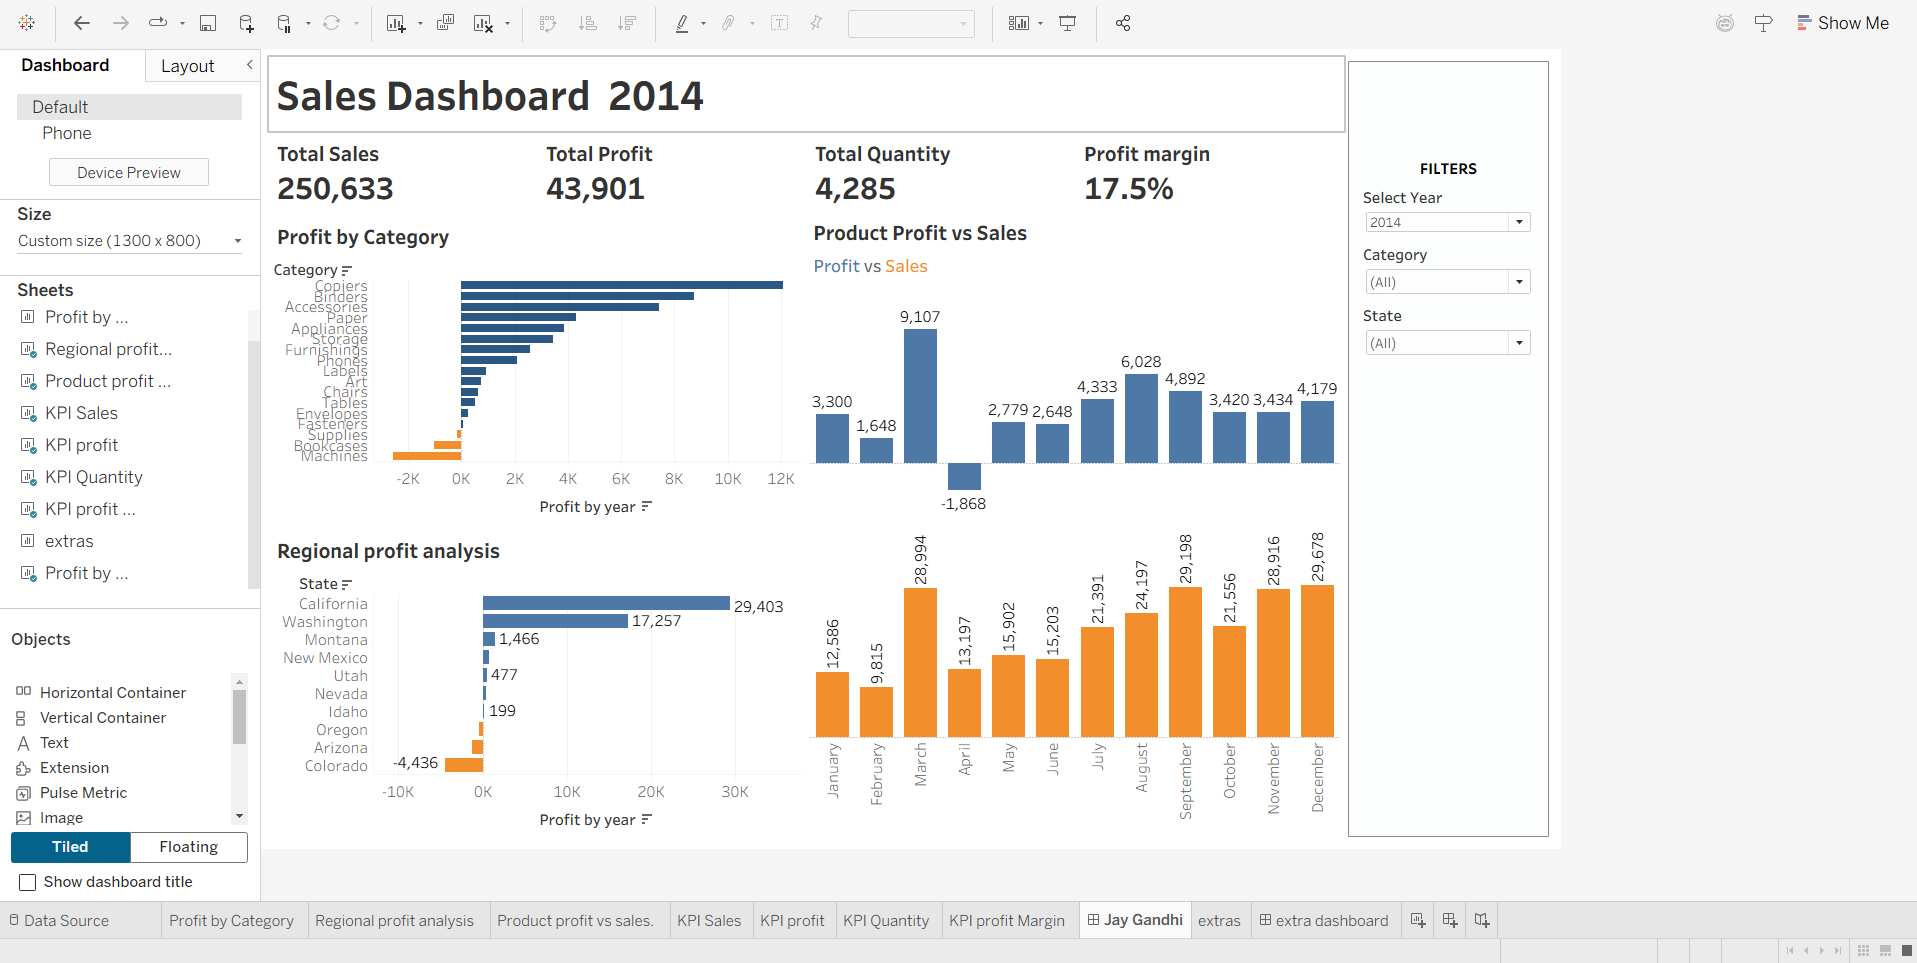

What the dashboard file says about the page in this screenshot:
{"tool":"tableau","page":{"name":"Jay Gandhi","canvas":[1300,800],"ordinal":0},"visuals":[{"type":"text","box":[8,8,1075,74]},{"type":"blank","box":[1098,23,179,82]},{"type":"worksheet","title":"KPI Sales","mark":"Automatic","box":[8,82,269,83]},{"type":"worksheet","title":"KPI profit","mark":"Automatic","box":[277,82,269,83]},{"type":"worksheet","title":"KPI Quantity","mark":"Automatic","box":[546,82,269,83]},{"type":"worksheet","title":"KPI profit Margin","mark":"Automatic","box":[815,82,268,83]},{"type":"text","box":[1098,105,179,29]},{"type":"parameter","param":"[Parameters].[Parameter 2]","box":[1098,134,179,57]},{"type":"worksheet","title":"Profit by Category (2)","mark":"Automatic","rows":["Category"],"cols":["Calculation_1236801077627543553"],"box":[8,165,537,314]},{"type":"text","box":[545.5,165,537.5,35]},{"type":"filter","title":"Profit by Category (2)","param":"[federated.0yc3zuj0cu6m1213de3aq17i0brb].[none:Category:nk]","box":[1098,191,179,61]},{"type":"text","box":[545.5,200,537.5,32]},{"type":"worksheet","title":"Product profit vs sales.","mark":"Bar","rows":["Calculation_1236801077627543553","Profit of 2011 (copy)_1236801077627842562"],"cols":["Order Date"],"box":[545.5,232,537.5,560]},{"type":"filter","title":"Regional profit analysis","param":"[federated.0yc3zuj0cu6m1213de3aq17i0brb].[none:Geography - Split 2:nk]","box":[1098,252,179,61]},{"type":"worksheet","title":"Regional profit analysis","mark":"Bar","rows":["Geography - Split 2"],"cols":["Calculation_1236801077627543553"],"box":[8,479,537,313]}]}

Visuals, with their boxes in screenshot pixels (x1, y1, x2, y2):
text: left=319, top=14, right=1550, bottom=99
blank: left=1567, top=31, right=1772, bottom=125
"KPI Sales" worksheet: left=319, top=99, right=627, bottom=194
"KPI profit" worksheet: left=627, top=99, right=935, bottom=194
"KPI Quantity" worksheet: left=935, top=99, right=1243, bottom=194
"KPI profit Margin" worksheet: left=1243, top=99, right=1550, bottom=194
text: left=1567, top=125, right=1772, bottom=159
parameter: left=1567, top=159, right=1772, bottom=224
"Profit by Category (2)" worksheet: left=319, top=194, right=934, bottom=554
text: left=934, top=194, right=1550, bottom=234
"Profit by Category (2)" filter: left=1567, top=224, right=1772, bottom=294
text: left=934, top=234, right=1550, bottom=271
"Product profit vs sales." worksheet (Bar marks): left=934, top=271, right=1550, bottom=912
"Regional profit analysis" filter: left=1567, top=294, right=1772, bottom=364
"Regional profit analysis" worksheet (Bar marks): left=319, top=554, right=934, bottom=912
